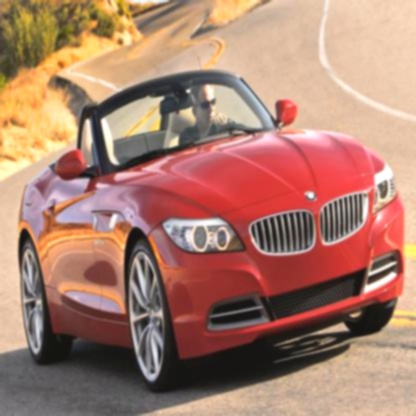Vehicle: (17, 72, 405, 391)
